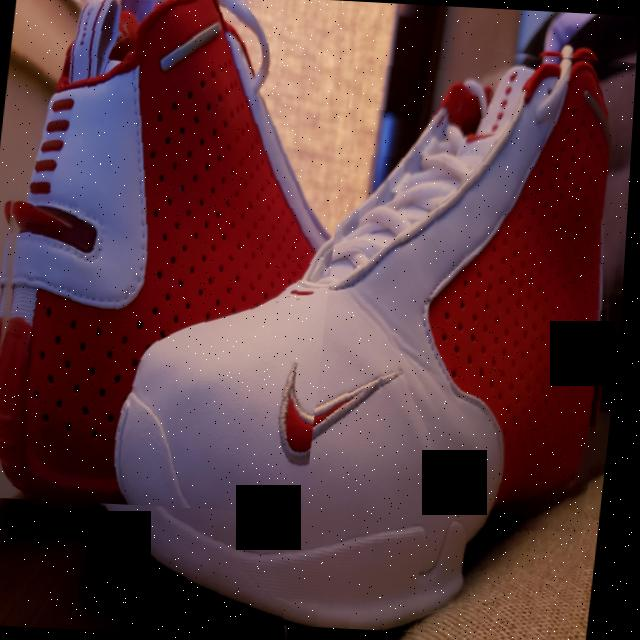shoe: (83, 22, 639, 640), (0, 0, 360, 514)
